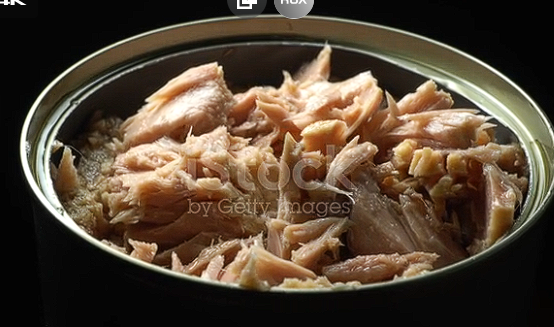Danificado: (34, 17, 554, 291)
